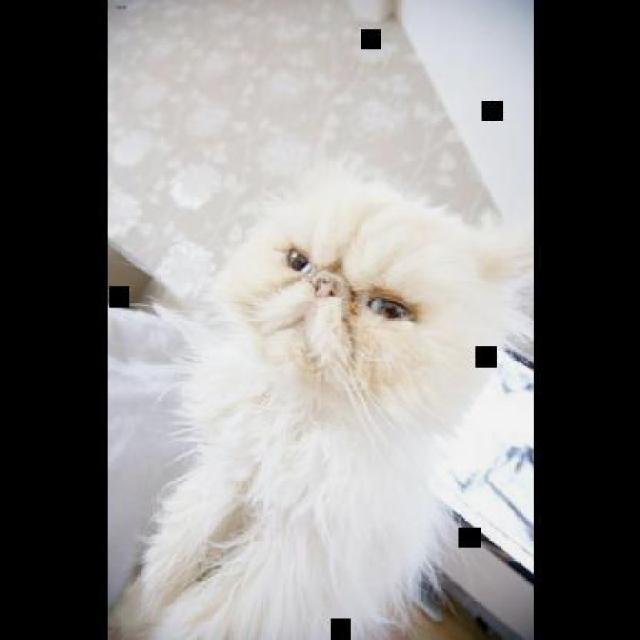unauthorized: (106, 154, 532, 638)
